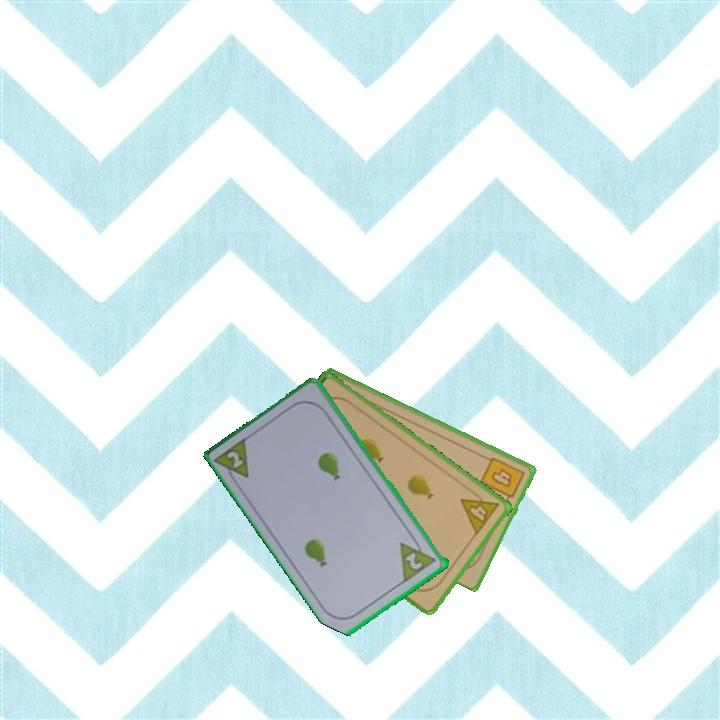2p: (402, 549, 426, 573), (224, 447, 247, 471)
4b: (477, 453, 527, 506)
4p: (457, 485, 502, 538)
